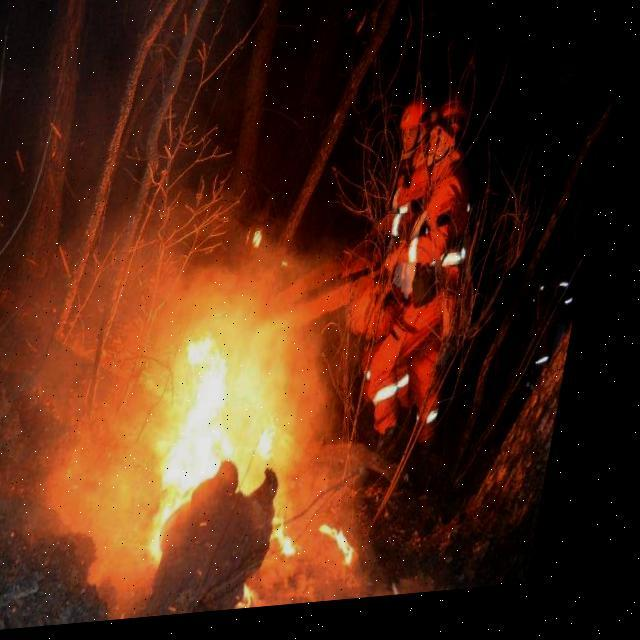Fire: (156, 318, 354, 584), (333, 526, 381, 577)
